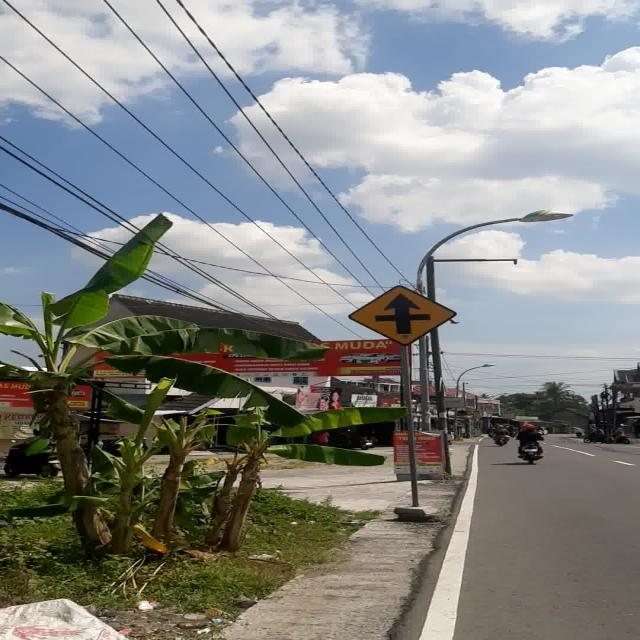Persimpangan 3 Prioritas: (348, 284, 458, 346)
